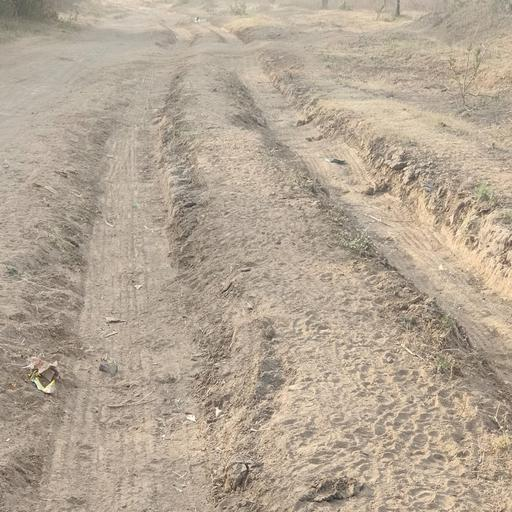vehicle_track: (184, 14, 512, 404), (29, 10, 256, 512)
